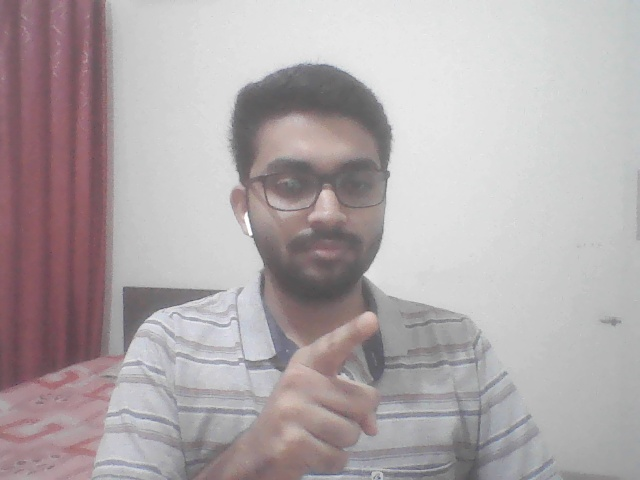you: (235, 296, 421, 478)
